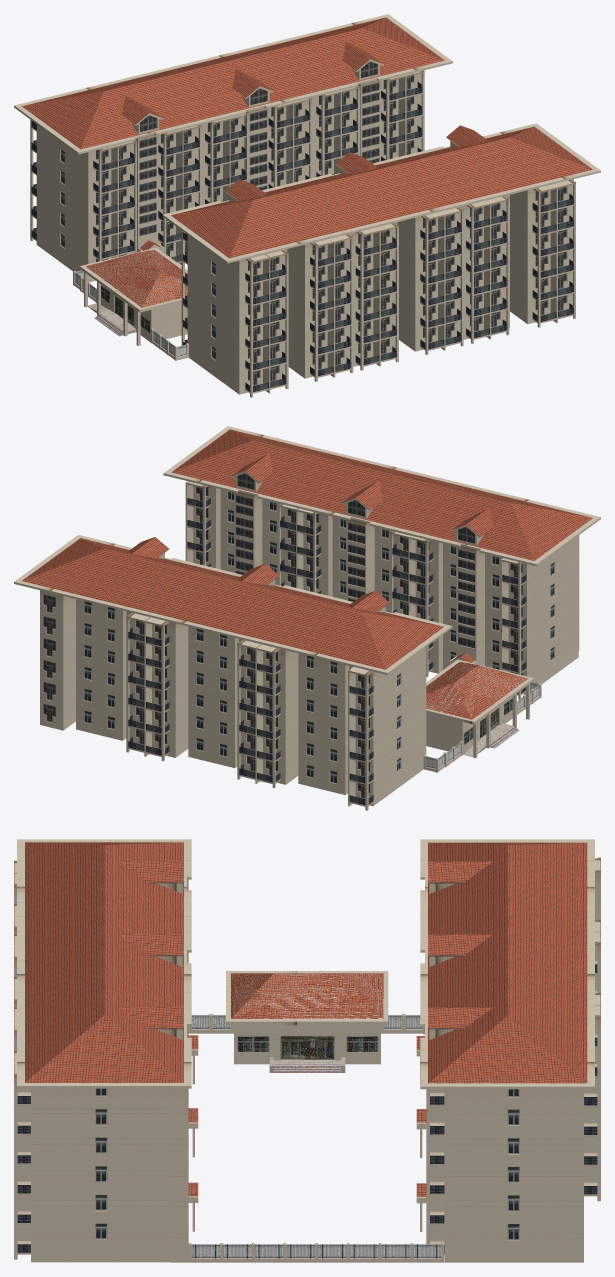
Rendered from SSL1.dae.
The picture shows the model from 3 angles, top to bottom: view 1: azimuth 30°, elevation 25°; view 2: azimuth 150°, elevation 25°; view 3: azimuth 270°, elevation 25°; orthographic projection. The views are drawn at different scales.
Parts seen in each view (by area): view 1: group_42, group_28 (×2), group_41 (×2), group_40, group_12, Group_14 (×4), group_30, group_8, group_13, group_19, group_32, group_9 (+12 smaller); view 2: group_40, group_41 (×2), group_42, group_28 (×2), group_12, Group_14 (×3), group_30, group_13, group_21, group_22, group_29, group_25 (+7 smaller); view 3: group_41 (×2), group_28 (×2), group_24, group_7, group_12, group_30 (×2), group_31, group_0 (×3), group_13, Group_14 (×3), group_6, group_20 (+7 smaller).
Boxes of the visible parts, bbox=[...] form: group_42: bbox=[187, 179, 573, 394]; group_28 (×2): bbox=[162, 123, 600, 263]; group_41 (×2): bbox=[14, 14, 452, 154]; group_40: bbox=[36, 73, 421, 282]; group_12: bbox=[86, 249, 187, 307]; Group_14 (×4): bbox=[314, 190, 540, 381]; group_30: bbox=[101, 284, 187, 342]; group_8: bbox=[327, 238, 335, 377]; group_13: bbox=[79, 247, 187, 312]; group_19: bbox=[484, 200, 491, 339]; group_32: bbox=[263, 254, 270, 393]; group_9: bbox=[373, 227, 380, 366]; group_40: bbox=[40, 590, 424, 805]; group_41 (×2): bbox=[14, 535, 452, 674]; group_42: bbox=[193, 486, 578, 694]; group_28 (×2): bbox=[163, 426, 600, 566]; group_12: bbox=[426, 662, 528, 719]; Group_14 (×3): bbox=[161, 624, 368, 810]; group_30: bbox=[426, 697, 512, 754]; group_13: bbox=[426, 659, 534, 724]; group_21: bbox=[255, 644, 262, 783]; group_22: bbox=[144, 617, 151, 756]; group_29: bbox=[348, 667, 355, 806]; group_25: bbox=[501, 558, 508, 671]; group_41 (×2): bbox=[420, 839, 594, 1089]; group_28 (×2): bbox=[17, 839, 191, 1088]; group_24: bbox=[31, 1088, 170, 1262]; group_7: bbox=[444, 1089, 583, 1262]; group_12: bbox=[231, 973, 383, 1018]; group_30 (×2): bbox=[234, 1025, 380, 1072]; group_31: bbox=[170, 1088, 188, 1262]; group_0 (×3): bbox=[237, 1036, 378, 1059]; group_13: bbox=[226, 971, 388, 1025]; Group_14 (×3): bbox=[14, 1016, 600, 1259]; group_6: bbox=[430, 1089, 444, 1241]; group_20: bbox=[14, 1063, 30, 1240].
Size of the model in its own units: 2404 by 2329 by 976.
16 materials, 15 textured.
